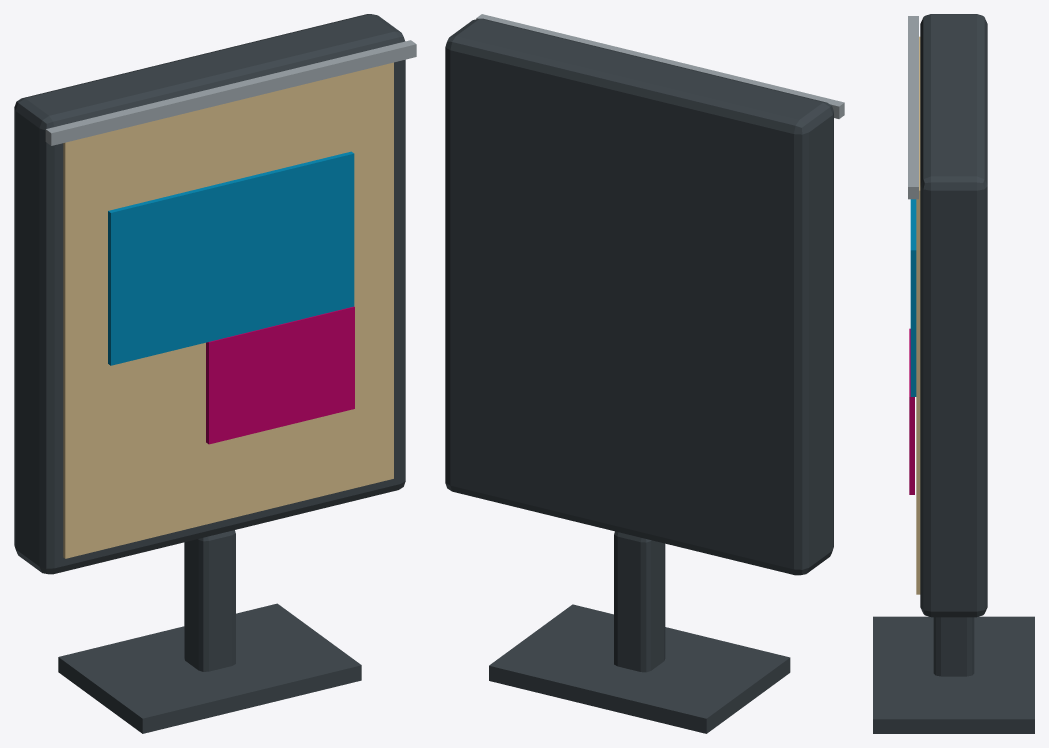
The model's file is m_lightbox.glb.
3 views of the same model, side by side, from view 1: azimuth 30°, elevation 25°; view 2: azimuth 150°, elevation 25°; view 3: azimuth 270°, elevation 25° (orthographic). The views are drawn at different scales.
Visible parts, largest first — view 1: m_lightbox; view 2: m_lightbox; view 3: m_lightbox.
Part boxes in pixels (bbox=[...]): m_lightbox: bbox=[14, 14, 416, 733]; m_lightbox: bbox=[445, 14, 844, 733]; m_lightbox: bbox=[873, 14, 1034, 733].
Size of the model in its own units: 0.3 by 0.48 by 0.12.
